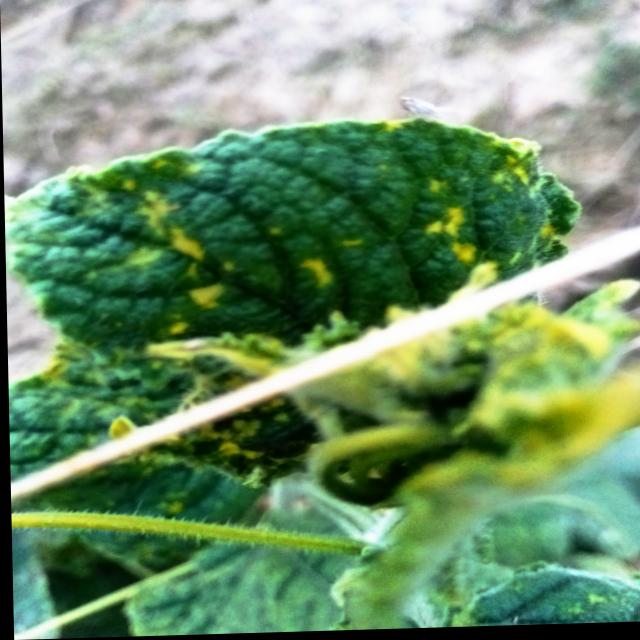Downy-Mildew: (3, 115, 578, 566)
